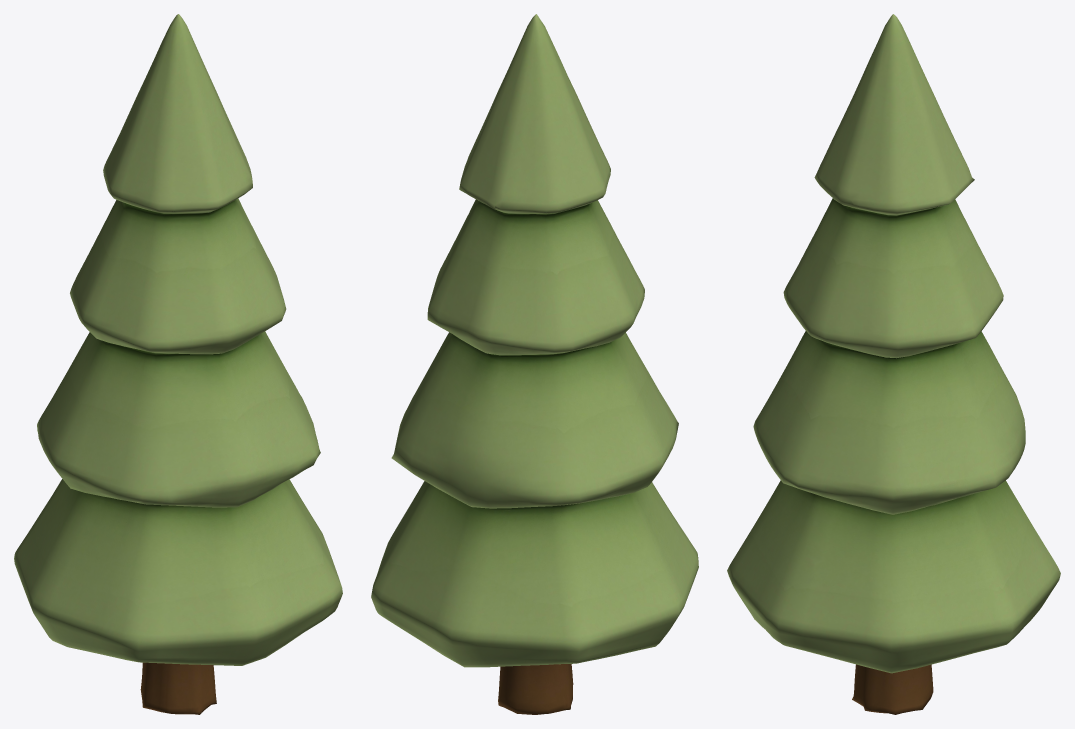
Rendered from tree.glb.
3 views of the same model, side by side, from view 1: azimuth 30°, elevation 25°; view 2: azimuth 150°, elevation 25°; view 3: azimuth 270°, elevation 25° (orthographic).
Parts seen in each view (by area): view 1: tripo_node_07414ffb-e1ac-439f-890a-4fef94d326a3; view 2: tripo_node_07414ffb-e1ac-439f-890a-4fef94d326a3; view 3: tripo_node_07414ffb-e1ac-439f-890a-4fef94d326a3.
Part boxes in pixels (x1,y1,x2,y2): tripo_node_07414ffb-e1ac-439f-890a-4fef94d326a3: (14,14,342,714); tripo_node_07414ffb-e1ac-439f-890a-4fef94d326a3: (371,14,698,714); tripo_node_07414ffb-e1ac-439f-890a-4fef94d326a3: (727,14,1060,714).
Size of the model in its own units: 0.4349 by 0.9839 by 0.4343.
Materials: 1 (1 with a texture image).
